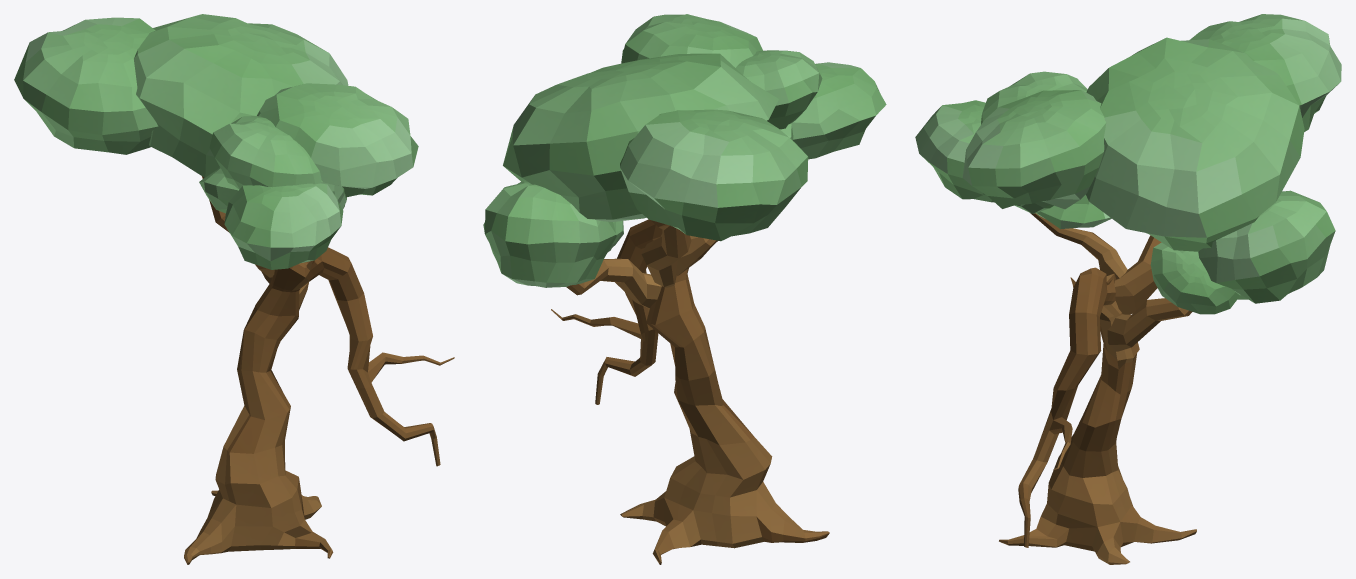
File: tree_1_b.glb
3 views of the same model, side by side, from view 1: azimuth 30°, elevation 25°; view 2: azimuth 150°, elevation 25°; view 3: azimuth 270°, elevation 25° (orthographic). The views are drawn at different scales.
Parts seen in each view (by area): view 1: crown_1_b, trunk_1_b; view 2: crown_1_b, trunk_1_b; view 3: crown_1_b, trunk_1_b.
Part boxes in pixels (box(x1,y1,x2,y2)): crown_1_b: box(14, 14, 418, 269); trunk_1_b: box(184, 176, 454, 564); crown_1_b: box(483, 14, 886, 287); trunk_1_b: box(551, 219, 829, 564); crown_1_b: box(915, 14, 1341, 314); trunk_1_b: box(999, 213, 1196, 564).
Bounding box in the file's own units: 3.91 × 5.36 × 4.36.
1 material, 1 textured.
